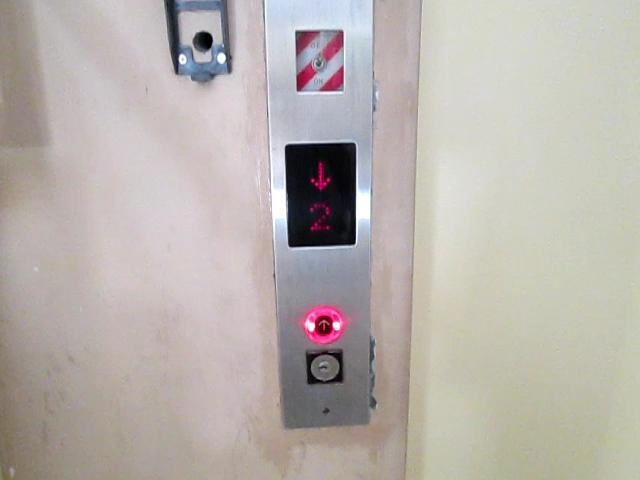keyhole: (303, 348, 345, 385)
led: (281, 139, 364, 252)
switch: (306, 46, 333, 78)
up: (302, 304, 349, 346)
